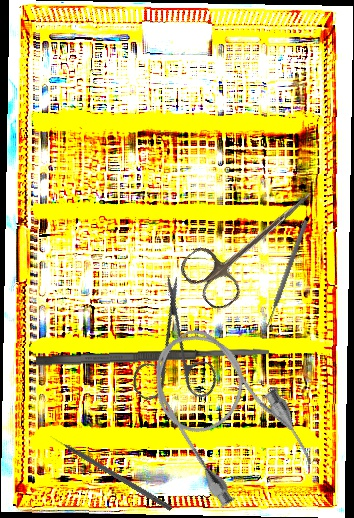Cannula: (130, 307, 322, 518)
Hook Surgical: (48, 431, 174, 512)
Iris Scissors: (94, 272, 253, 430), (175, 167, 330, 316)
Pusher: (261, 219, 310, 334)
Spatula Surgical: (35, 345, 270, 368)
